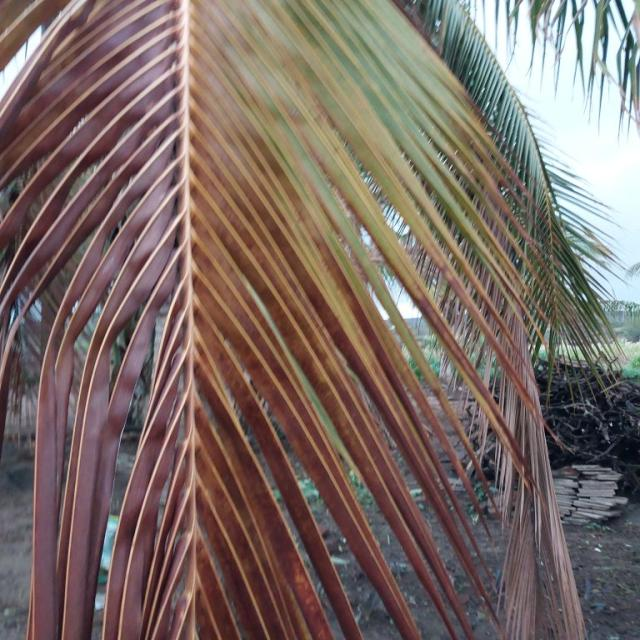gray leaf spot: (18, 29, 248, 614), (463, 315, 587, 639)
